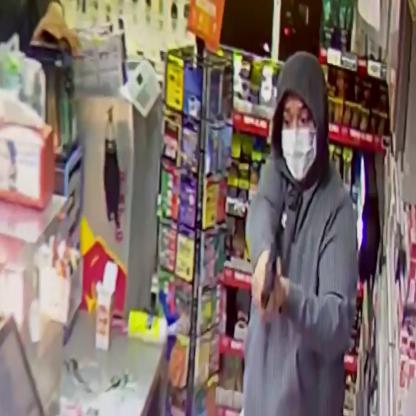Pistol: (253, 239, 289, 331)
